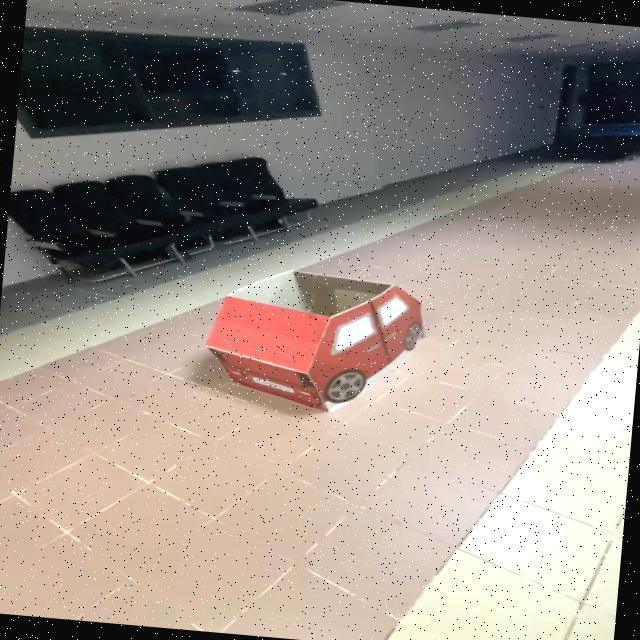red_car: (177, 248, 452, 448)
